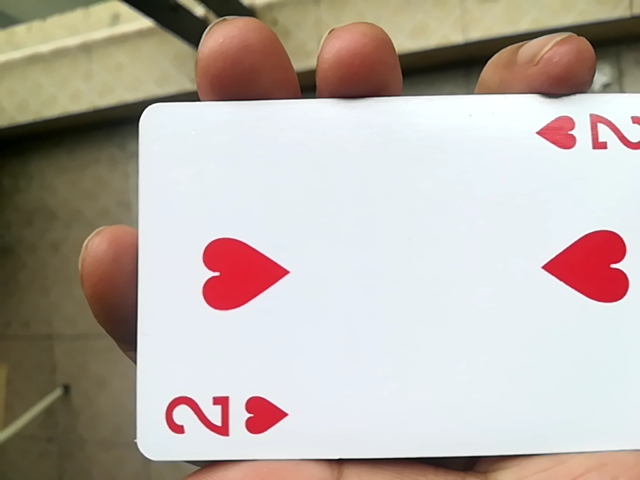hx 2: (122, 101, 637, 475)
